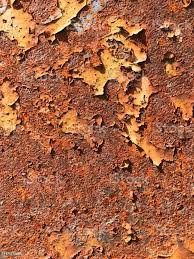rust: (1, 1, 194, 258)
